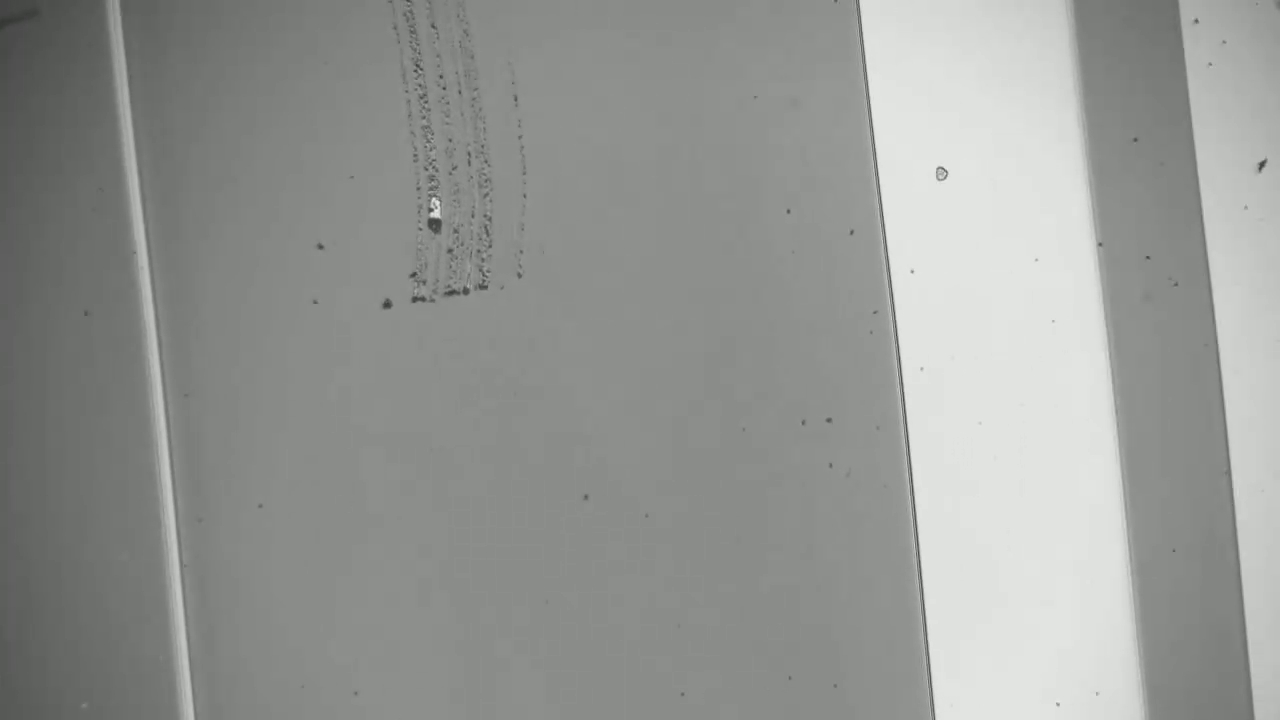scratch: (381, 4, 530, 308)
